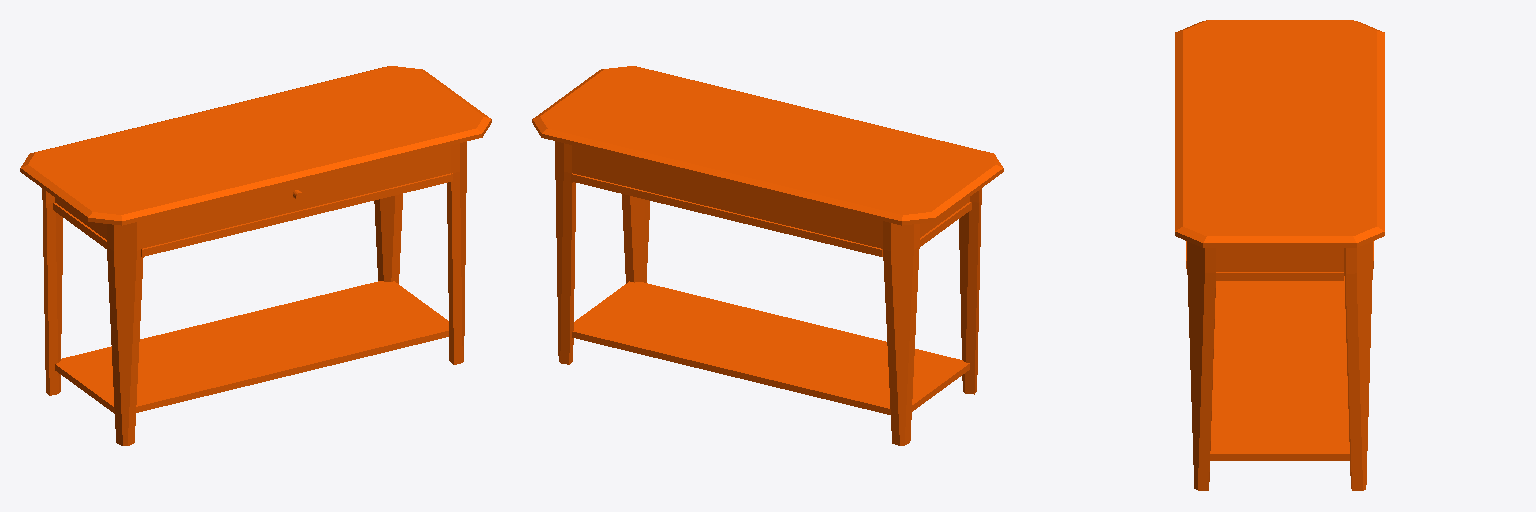
The robot description file, URDF, robot "EndTable_c21a2155b9eaf443371bbdceb8e7f90b":
<?xml version="1.0" ?>
<robot name="EndTable_c21a2155b9eaf443371bbdceb8e7f90b">
   <material name="obj_color">
      <color rgba="1.0 0.423529411765 0.0392156862745 1.0"/>
   </material>
   <link name="top">
      <inertial>
         <origin rpy="0.0004652154519580734 0.001047767677194247 0.001232923931001263" xyz="-0.000181471120364989 -0.000616351313143972 -0.01221499318960714"/>
         <mass value="0.5856189611218113"/>
         <inertia ixx="0.0004652211097372907" ixy="-1.236641096811137e-06" ixz="-1.460697376499056e-06" iyy="0.001232921113604129" iyz="-3.93279208351722e-07" izz="0.001047764836812163"/>
      </inertial>
      <visual>
         <origin rpy="0 0 0" xyz="0 0 0"/>
         <geometry>
            <mesh filename="top_watertight_tiny.stl" scale="1 1 1"/>
         </geometry>
         <material name="obj_color"/>
      </visual>
      <collision>
         <origin rpy="0 0 0" xyz="0 0 0"/>
         <geometry>
            <mesh filename="top_watertight_tiny.obj" scale="1 1 1"/>
         </geometry>
      </collision>
   </link>
   <link name="bottom">
      <inertial>
         <origin rpy="1.633333333199431e-08 1.633333333199431e-08 1.633333333362855e-08" xyz="0.3464080000000008 0.3464080000000008 0.3464080000000008"/>
         <mass value="0.0009800000000000017"/>
         <inertia ixx="1.633333333253906e-08" ixy="5.447480642029219e-19" ixz="5.447480642029219e-19" iyy="1.633333333253906e-08" iyz="5.447480642029219e-19" izz="1.633333333253906e-08"/>
      </inertial>
      <visual>
         <origin rpy="0 0 0" xyz="0 0 0"/>
         <geometry>
            <mesh filename="bottom_watertight_tiny.stl" scale="1 1 1"/>
         </geometry>
         <material name="obj_color"/>
      </visual>
   </link>
   <link name="world"/>
   <joint name="world_to_base" type="fixed">
      <origin xyz="0 0 0"/>
      <axis xyz="0 0 0"/>
      <parent link="world"/>
      <child link="bottom"/>
   </joint>
   <joint name="rotation" type="revolute">
      <origin xyz="0 0 0"/>
      <axis xyz="0 0 -1"/>
      <parent link="bottom"/>
      <child link="top"/>
      <dynamics damping="1.0" friction="1.0"/>
      <limit effort="0.1" velocity="0.1" lower="0" upper="0.001"/>
   </joint>
</robot>

--- Render facts (derived) ---
Views: 3 orthographic renders of the robot side by side, from view 1: azimuth 30°, elevation 25°; view 2: azimuth 150°, elevation 25°; view 3: azimuth 270°, elevation 25°.
Robot: EndTable_c21a2155b9eaf443371bbdceb8e7f90b — 3 links, 2 joints (1 revolute, 1 fixed); root link world; default pose: every joint at zero.
Links seen in each view (by area): view 1: top; view 2: top; view 3: top.
Boxes of the visible links, left/top/right/bottom form: top: left=20, top=66, right=491, bottom=445; top: left=532, top=66, right=1003, bottom=445; top: left=1175, top=20, right=1384, bottom=490.
Size in the robot's own frame: 0.1466 by 0.0584 by 0.0821 metres.
1 mesh visuals loaded from 2 distinct referenced files (1 binary STL); not drawn: 1 (reference not matched to a file when rendering).
